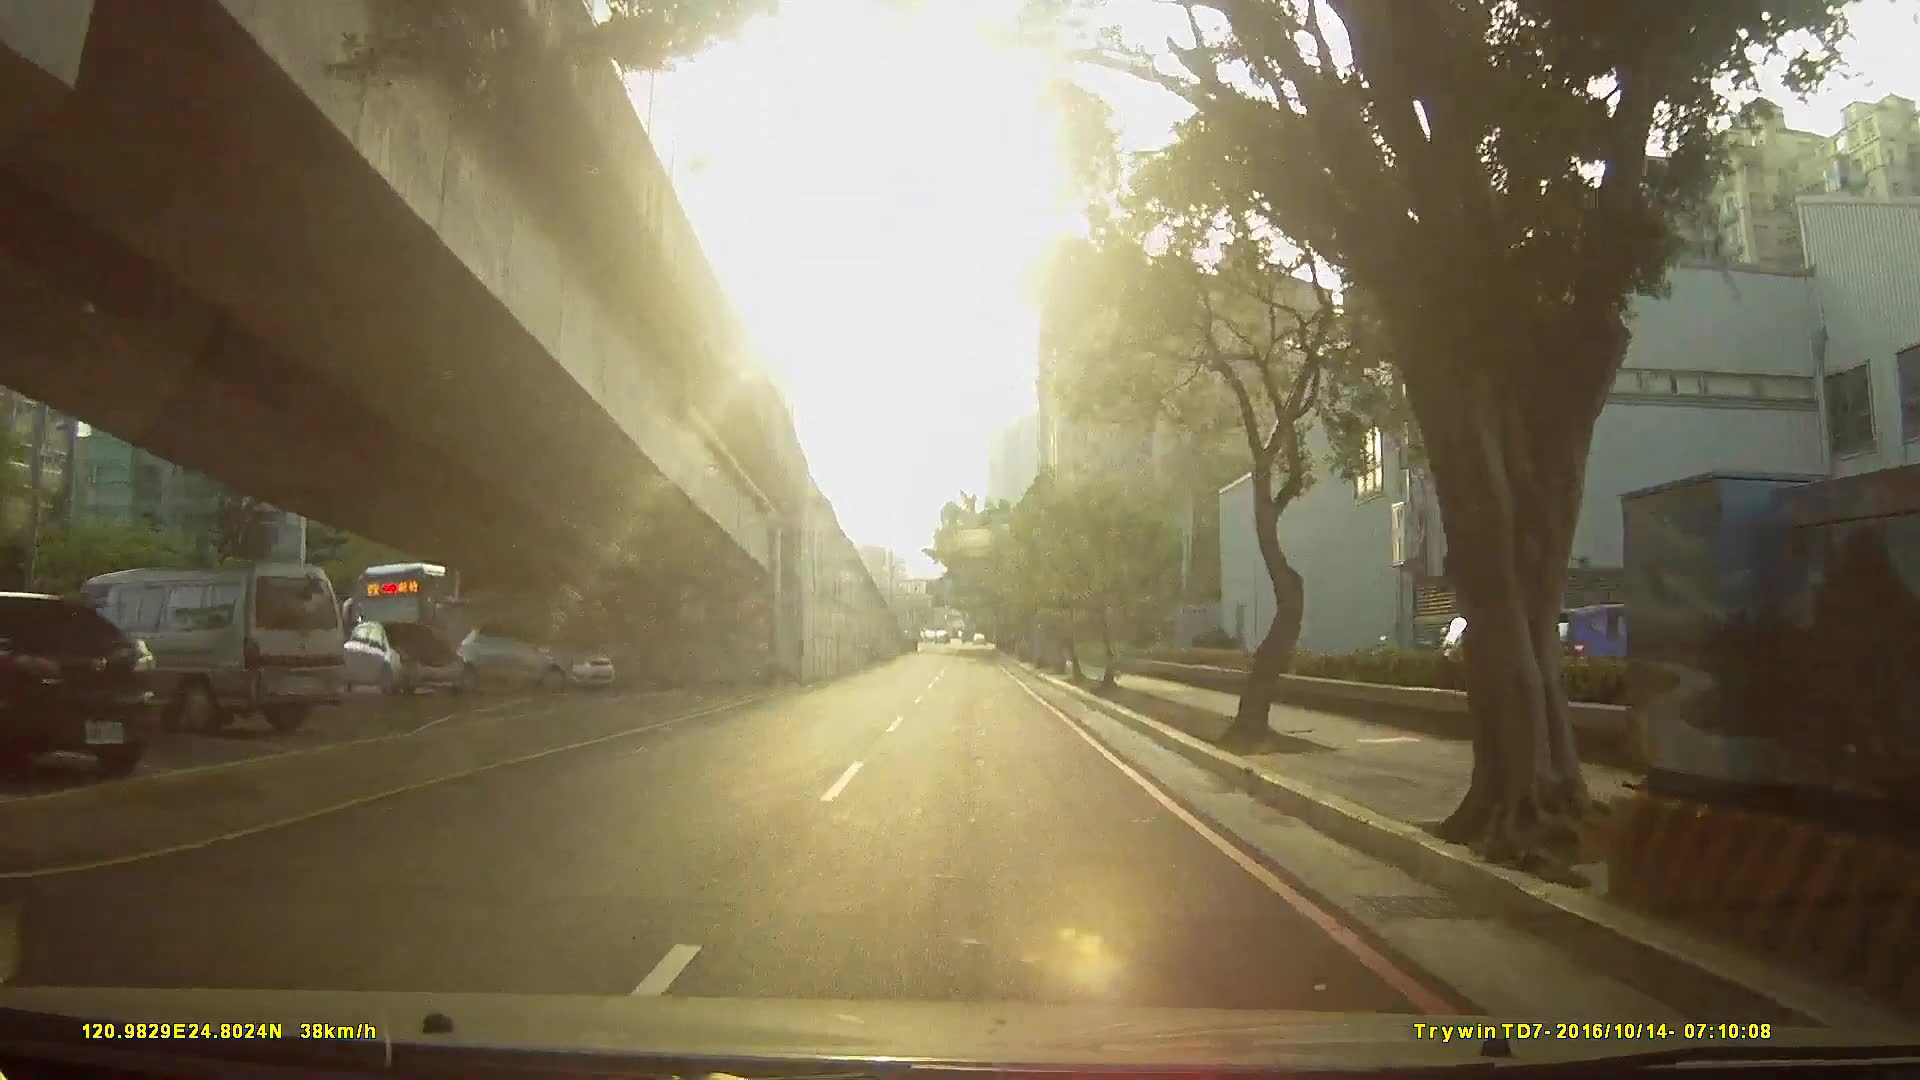vehicle: (41, 559, 348, 737), (1, 591, 178, 783), (340, 560, 543, 692), (447, 618, 613, 695), (330, 618, 462, 700)
